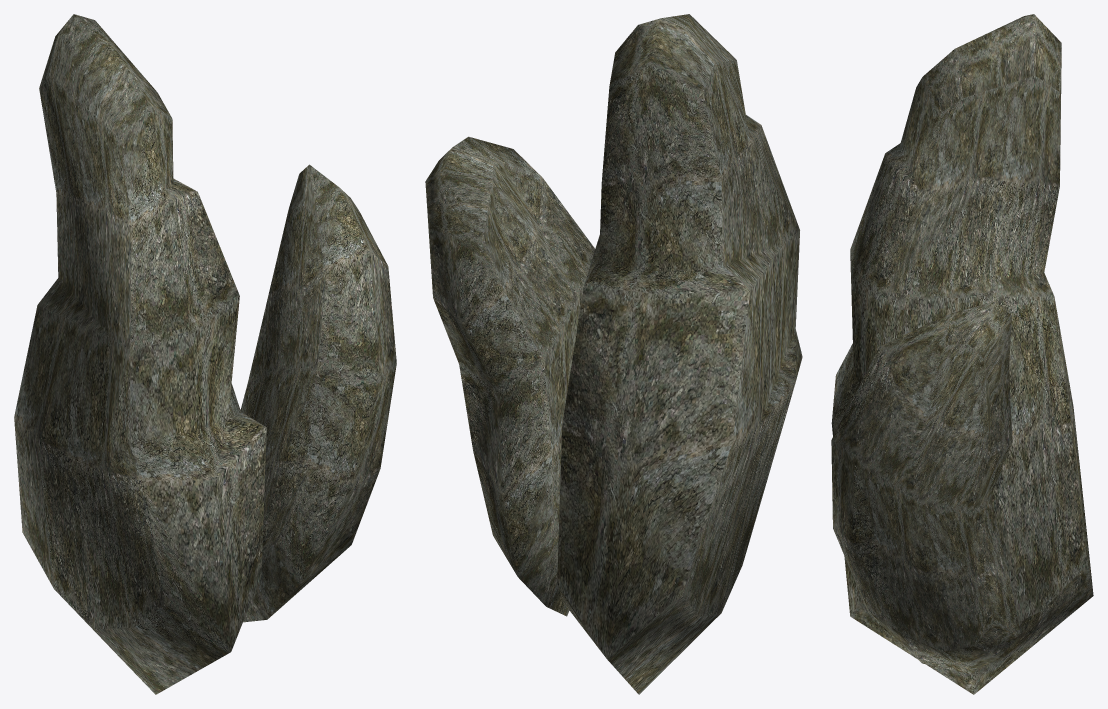
The model's file is rock_dant_a5_l1.fbx.
The picture shows the model from 3 angles, left to right: view 1: azimuth 30°, elevation 25°; view 2: azimuth 150°, elevation 25°; view 3: azimuth 270°, elevation 25°; orthographic projection. The views are drawn at different scales.
Parts seen in each view (by area): view 1: mesh_node; view 2: mesh_node; view 3: mesh_node.
Boxes of the visible parts, left/top/right/bottom form: mesh_node: left=14, top=14, right=396, bottom=694; mesh_node: left=425, top=14, right=802, bottom=694; mesh_node: left=831, top=14, right=1093, bottom=694.
Size of the model in its own units: 2.37 by 4.86 by 1.76.
1 material, 1 textured.
